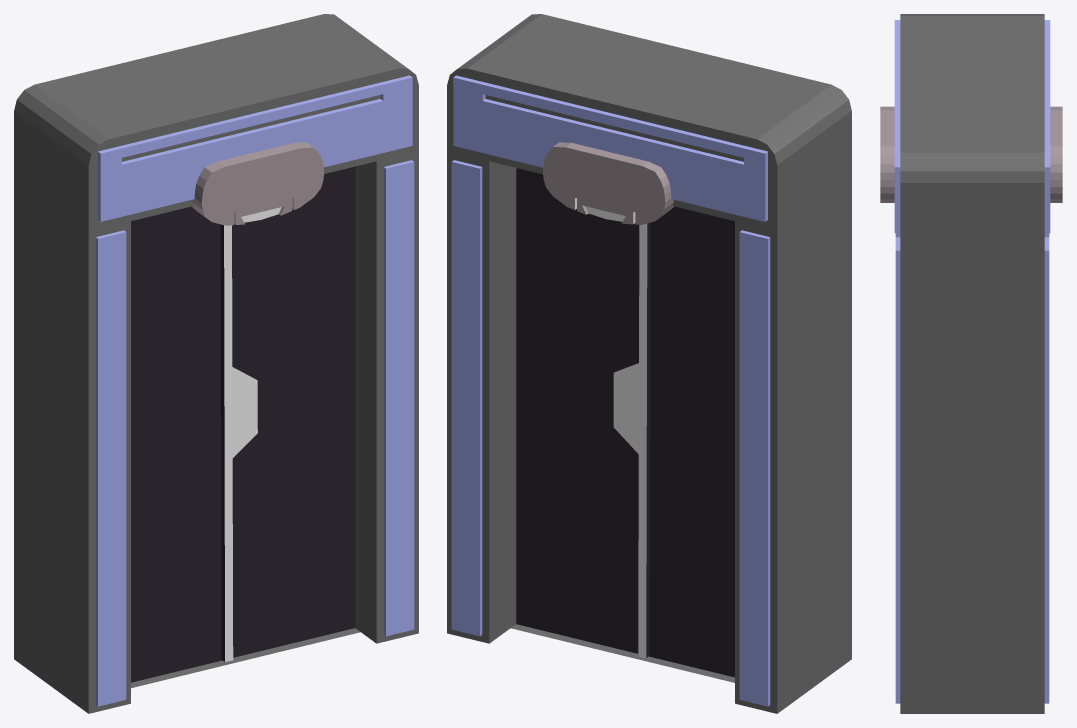
The model's file is Door-New.fbx.
The picture shows the model from 3 angles, left to right: view 1: azimuth 30°, elevation 25°; view 2: azimuth 150°, elevation 25°; view 3: azimuth 270°, elevation 25°; orthographic projection. The views are drawn at different scales.
Visible parts, largest first — view 1: Frame.001, Door-Side, Door-Side.001, Back-Panel, Back-L, Back-R, Decorator-1.001; view 2: Frame.001, Door-Side, Door-Side.001, Front-Panel, Front-R, Front-L, Decorator-1; view 3: Frame.001, Front-L, Back-R, Back-Panel, Front-Panel, Decorator-1.001, Decorator-1.
Boxes of the visible parts, left/top/right/bottom form: Frame.001: left=14, top=14, right=418, bottom=713; Door-Side: left=232, top=166, right=355, bottom=657; Door-Side.001: left=131, top=206, right=257, bottom=682; Back-Panel: left=98, top=75, right=412, bottom=221; Back-L: left=95, top=230, right=126, bottom=706; Back-R: left=383, top=160, right=414, bottom=636; Decorator-1.001: left=192, top=142, right=324, bottom=225; Frame.001: left=447, top=14, right=851, bottom=713; Door-Side: left=516, top=168, right=639, bottom=653; Door-Side.001: left=613, top=206, right=734, bottom=677; Front-Panel: left=453, top=75, right=767, bottom=221; Front-R: left=739, top=230, right=770, bottom=706; Front-L: left=451, top=160, right=482, bottom=636; Decorator-1: left=543, top=142, right=674, bottom=224; Frame.001: left=900, top=14, right=1044, bottom=713; Front-L: left=1044, top=237, right=1049, bottom=703; Back-R: left=895, top=237, right=900, bottom=703; Back-Panel: left=894, top=20, right=900, bottom=233; Front-Panel: left=1044, top=20, right=1050, bottom=233; Decorator-1.001: left=880, top=106, right=894, bottom=202; Decorator-1: left=1050, top=106, right=1062, bottom=202.
Size of the model in its own units: 152 by 251 by 74.77.
